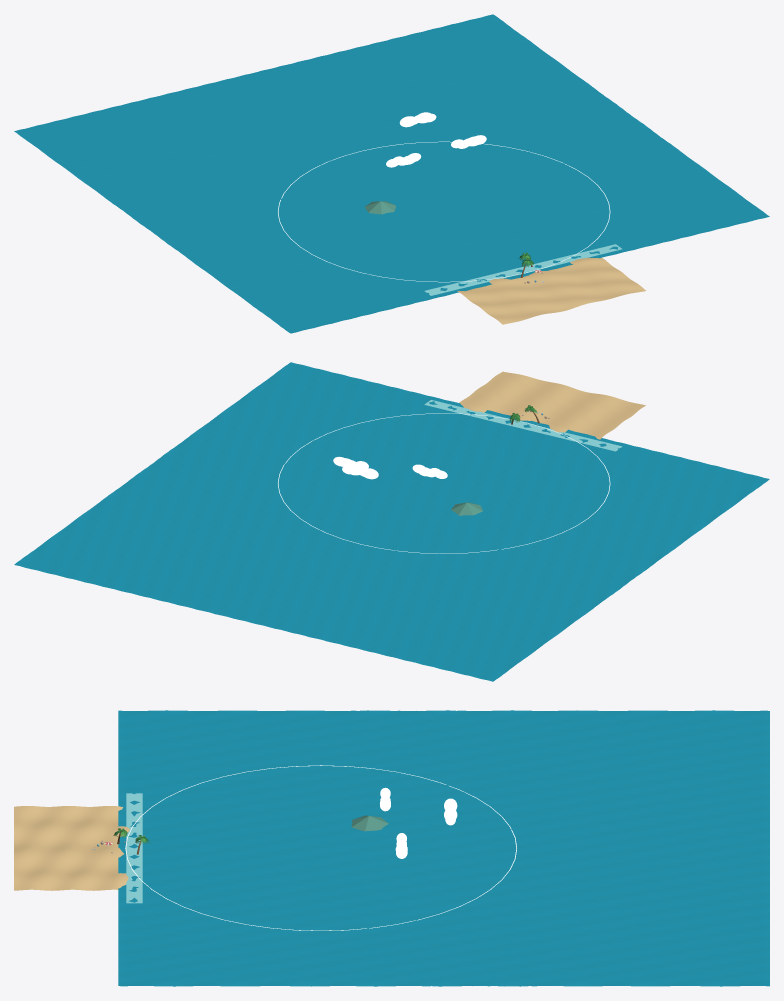
Rendered from beach.glb.
The picture shows the model from 3 angles, top to bottom: view 1: azimuth 30°, elevation 25°; view 2: azimuth 150°, elevation 25°; view 3: azimuth 270°, elevation 25°; orthographic projection. The views are drawn at different scales.
Visible parts, largest first — view 1: Sea, Plane, Shallow, Foam; view 2: Sea, Plane, Shallow, Foam; view 3: Sea, Plane, Shallow, Foam.
Boxes of the visible parts, x1=… form: Sea: x1=14, y1=14, x2=769, y2=333; Plane: x1=457, y1=257, x2=645, y2=324; Shallow: x1=424, y1=244, x2=622, y2=295; Foam: x1=278, y1=141, x2=610, y2=282; Sea: x1=14, y1=362, x2=769, y2=681; Plane: x1=459, y1=371, x2=645, y2=439; Shallow: x1=424, y1=400, x2=622, y2=451; Foam: x1=277, y1=413, x2=610, y2=553; Sea: x1=118, y1=710, x2=769, y2=986; Plane: x1=14, y1=806, x2=129, y2=890; Shallow: x1=126, y1=793, x2=142, y2=903; Foam: x1=125, y1=765, x2=516, y2=930.
Bounding box in the file's own units: 200 × 23.73 × 232.
